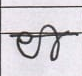i_matra: (43, 23, 60, 60)
